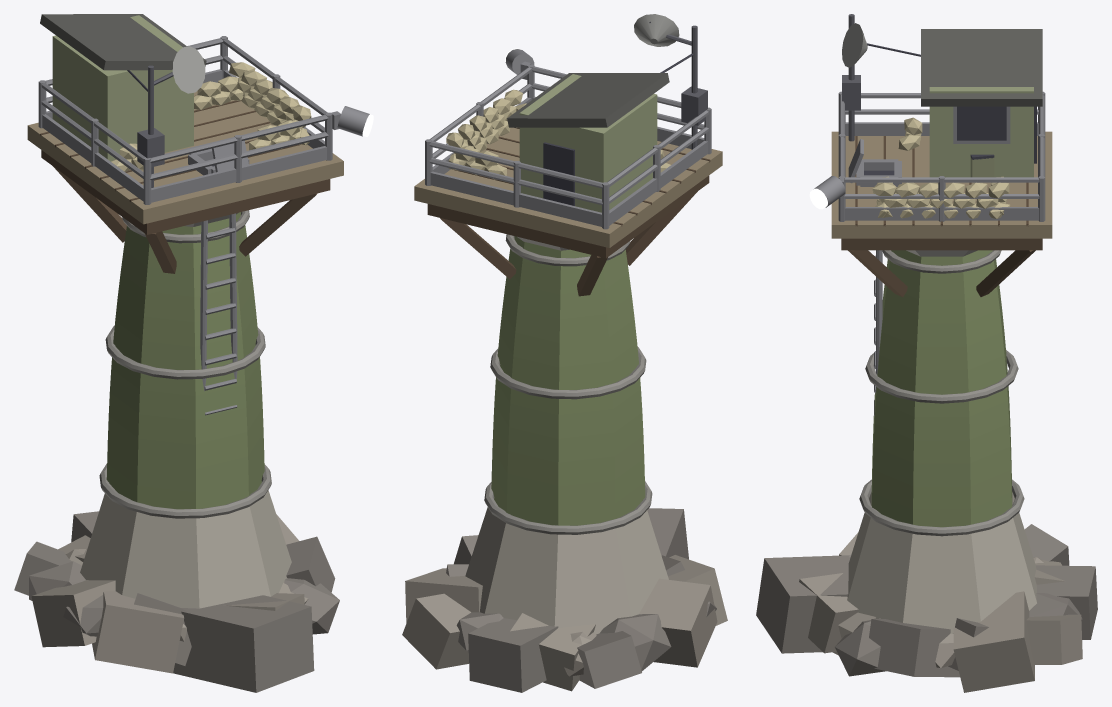
The model's file is tower_sniper_base.glb.
3 renders of one model, left to right at view 1: azimuth 30°, elevation 25°; view 2: azimuth 150°, elevation 25°; view 3: azimuth 270°, elevation 25°, orthographic. The views are drawn at different scales.
Visible parts, largest first — view 1: T_Rock0.001; view 2: T_Rock0.001; view 3: T_Rock0.001.
Part boxes in pixels (x1,y1,x2,y2): T_Rock0.001: [14, 14, 373, 692]; T_Rock0.001: [402, 14, 727, 692]; T_Rock0.001: [756, 14, 1097, 692].
Size of the model in its own units: 3.18 by 7.02 by 3.6.
